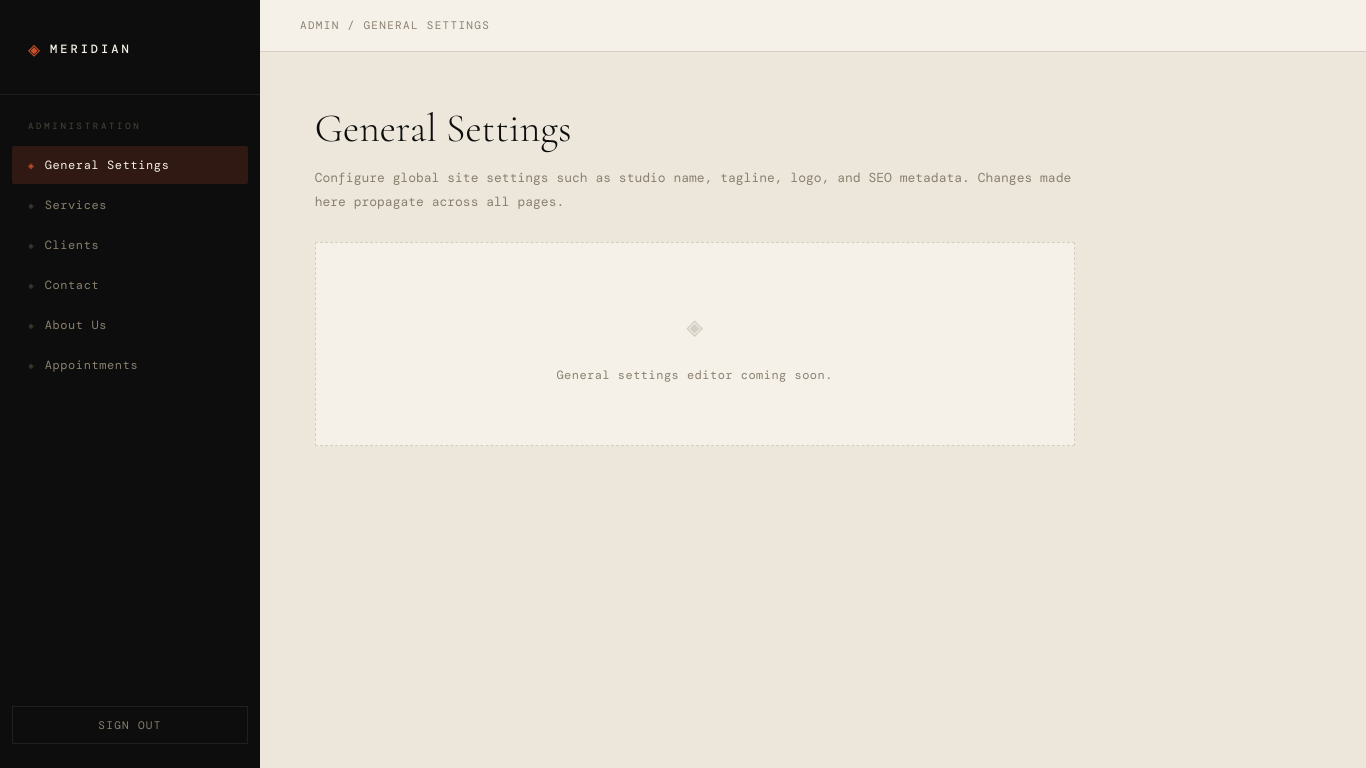
Scenario: AdminPage — Appointments panel › clicking Existing Appointments shows loading indicator
What coordinates should you click on to do the following:
click the button "◈ Appointments"
I would click on:
 (130, 365)
Its box is x1=12 y1=346 x2=248 y2=384.
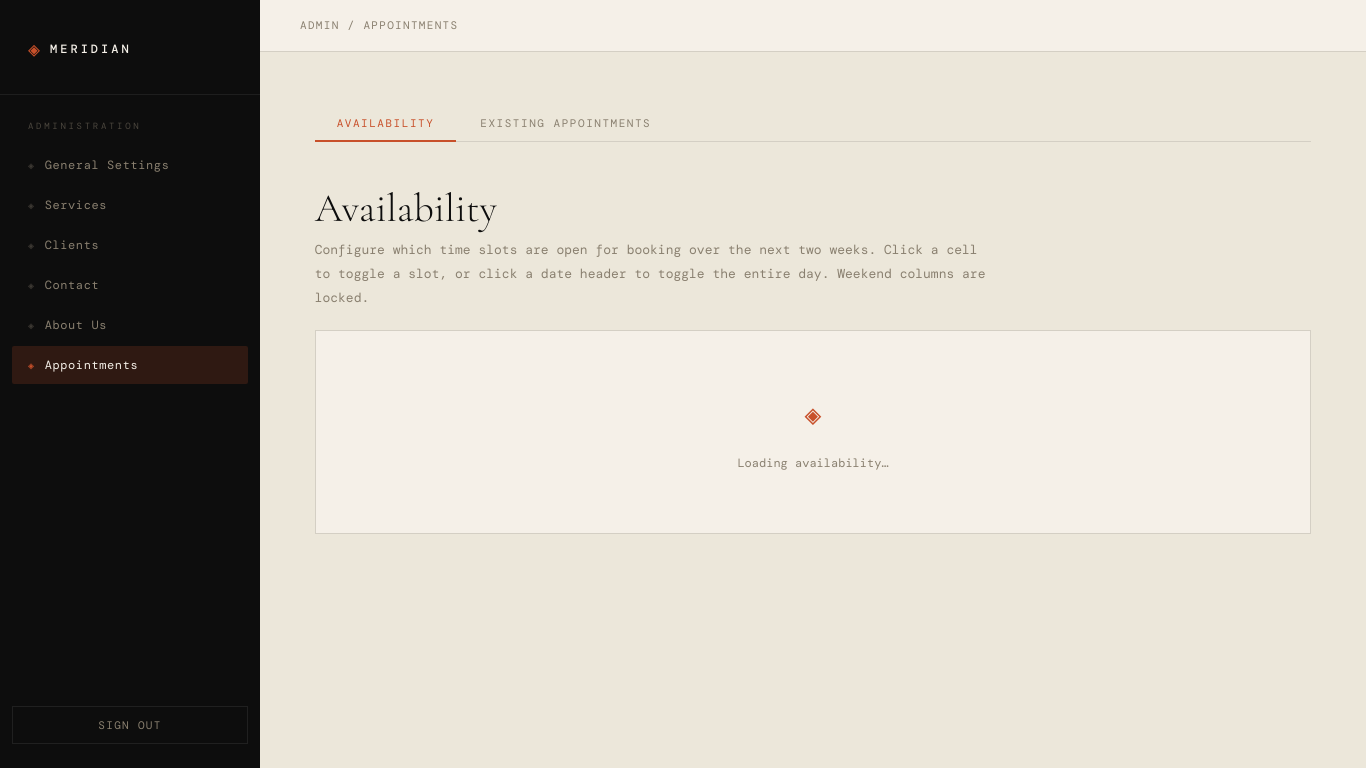
What coordinates should you click on to do the following:
click the button "Existing Appointments"
I would click on:
 (566, 124)
Its box is x1=458 y1=106 x2=673 y2=142.
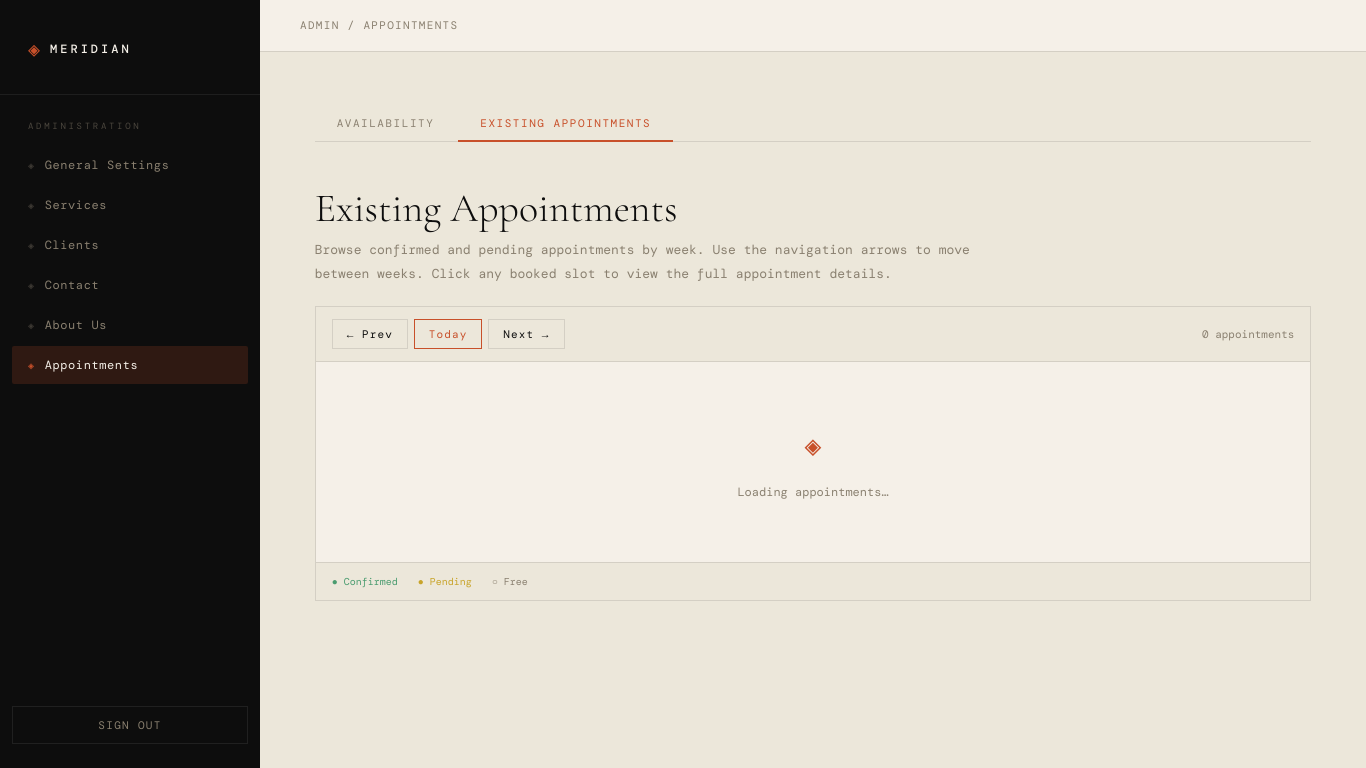
Result: the text "Loading appointments…" is shown at x1=737 y1=482 x2=889 y2=502
